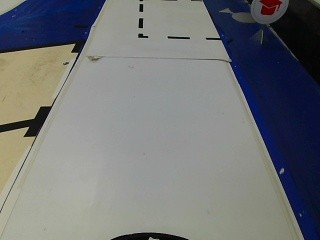school: (248, 0, 287, 24)
